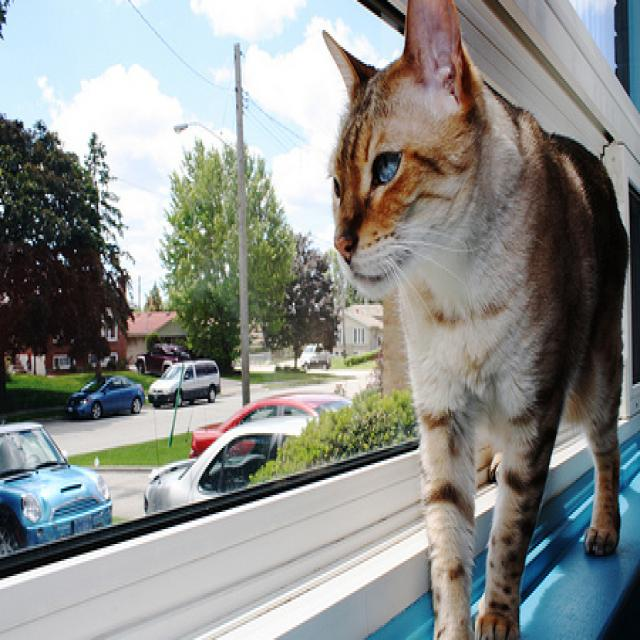Bengal: (314, 0, 640, 640)
